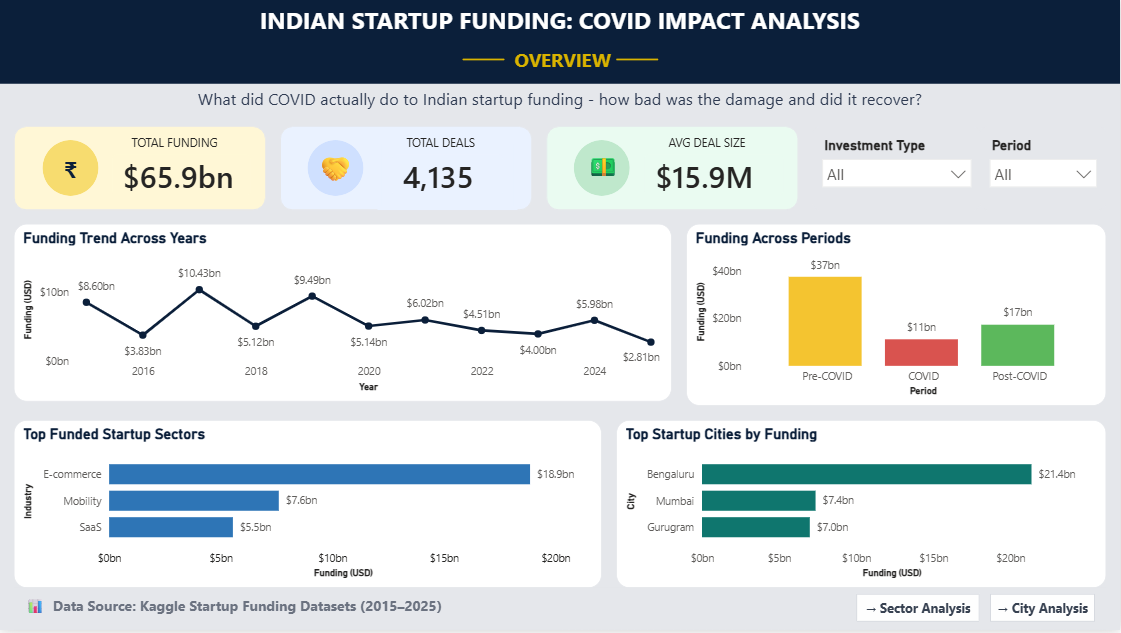

Layout of this report page (visuals, bound fields, positions):
{"tool":"powerbi","page":{"name":"Overview","canvas":[1280,720],"ordinal":0},"visuals":[{"type":"shape","title":"INDIAN STARTUP ECOSYSTEM: COVID IMPACT ANALYSIS","box":[0,0,1280,96],"z":0},{"type":"textbox","box":[0,0,1280,48],"z":1000},{"type":"textbox","box":[0,48,1280,48],"z":2000},{"type":"shape","box":[704,48,48,32],"z":3000},{"type":"shape","box":[528,48,48,32],"z":4000},{"type":"textbox","box":[0,96,1280,35],"z":5000},{"type":"shape","box":[16,144,288,96],"z":6000},{"type":"shape","box":[48,160,64,64],"z":7000},{"type":"textbox","box":[48,160,64,64],"z":8000},{"type":"cardVisual","fields":{"Data":["Sum(cleaned_startup_funding_data.amount_usd)"]},"box":[112,160,192,80],"z":9000},{"type":"textbox","box":[112,144,176,32],"z":10000},{"type":"shape","box":[320,144,288,96],"z":11000},{"type":"shape","box":[352,160,64,64],"z":12000},{"type":"textbox","box":[352,288,64,48],"z":13000},{"type":"cardVisual","fields":{"Data":["cleaned_startup_funding_data.total_deals"]},"box":[432,160,160,80],"z":14000},{"type":"textbox","box":[416,144,176,32],"z":15000},{"type":"textbox","box":[352,160,64,64],"z":16000},{"type":"shape","box":[624,144,288,96],"z":17000},{"type":"shape","box":[656,160,64,64],"z":18000},{"type":"cardVisual","fields":{"Data":["cleaned_startup_funding_data.avg_deal_size"]},"box":[720,160,192,80],"z":19000},{"type":"textbox","box":[720,144,176,32],"z":20000},{"type":"textbox","box":[656,160,64,64],"z":21000},{"type":"lineChart","title":"Funding Trend Across Years","fields":{"Y":["cleaned_startup_funding_data.total_fundings"],"Category":["date_table.Year"]},"box":[16,256,752,203],"z":22000},{"type":"clusteredColumnChart","title":"Funding Across Periods","fields":{"Y":["cleaned_startup_funding_data.total_fundings"],"Category":["cleaned_startup_funding_data.period"]},"box":[784,256,480,208],"z":23000},{"type":"barChart","title":"Top Funded Startup Sectors","fields":{"Category":["cleaned_startup_funding_data.industry"],"Y":["cleaned_startup_funding_data.total_fundings"]},"box":[16,480,672,192],"z":24000},{"type":"barChart","title":"Top Startup Cities by Funding","fields":{"Category":["cleaned_startup_funding_data.city"],"Y":["cleaned_startup_funding_data.total_fundings"]},"box":[704,480,560,192],"z":25000},{"type":"textbox","box":[16,672,1248,48],"z":26000},{"type":"slicer","title":"      Period ","fields":{"Values":["cleaned_startup_funding_data.period"]},"box":[1120,144,144,96],"z":27000},{"type":"slicer","title":"Investment Type","fields":{"Values":["cleaned_startup_funding_data.investment_type"]},"box":[928,144,192,96],"z":28000},{"type":"actionButton","title":"Sector Analysis","box":[1131,679,120,32],"z":29000},{"type":"actionButton","title":"Sector Analysis","box":[979,679,141,32],"z":30000}]}

Visuals, with their boxes in screenshot pixels (x1, y1, x2, y2), scaled from the page's 1280x720 canvas onto the 1121x633 screenshot:
"INDIAN STARTUP ECOSYSTEM: COVID IMPACT ANALYSIS" shape: box(0, 0, 1120, 84)
textbox: box(0, 0, 1120, 42)
textbox: box(0, 42, 1120, 84)
shape: box(617, 42, 659, 70)
shape: box(462, 42, 504, 70)
textbox: box(0, 84, 1120, 115)
shape: box(14, 127, 266, 211)
shape: box(42, 141, 98, 197)
textbox: box(42, 141, 98, 197)
cardVisual - Sum(cleaned_startup_funding_data.amount_usd): box(98, 141, 266, 211)
textbox: box(98, 127, 252, 155)
shape: box(280, 127, 532, 211)
shape: box(308, 141, 364, 197)
textbox: box(308, 253, 364, 295)
cardVisual - cleaned_startup_funding_data.total_deals: box(378, 141, 518, 211)
textbox: box(364, 127, 518, 155)
textbox: box(308, 141, 364, 197)
shape: box(546, 127, 799, 211)
shape: box(575, 141, 631, 197)
cardVisual - cleaned_startup_funding_data.avg_deal_size: box(631, 141, 799, 211)
textbox: box(631, 127, 785, 155)
textbox: box(575, 141, 631, 197)
"Funding Trend Across Years" lineChart: box(14, 225, 673, 404)
"Funding Across Periods" clusteredColumnChart: box(687, 225, 1107, 408)
"Top Funded Startup Sectors" barChart: box(14, 422, 603, 591)
"Top Startup Cities by Funding" barChart: box(617, 422, 1107, 591)
textbox: box(14, 591, 1107, 632)
"      Period " slicer: box(981, 127, 1107, 211)
"Investment Type" slicer: box(813, 127, 981, 211)
"Sector Analysis" actionButton: box(991, 597, 1096, 625)
"Sector Analysis" actionButton: box(857, 597, 981, 625)
